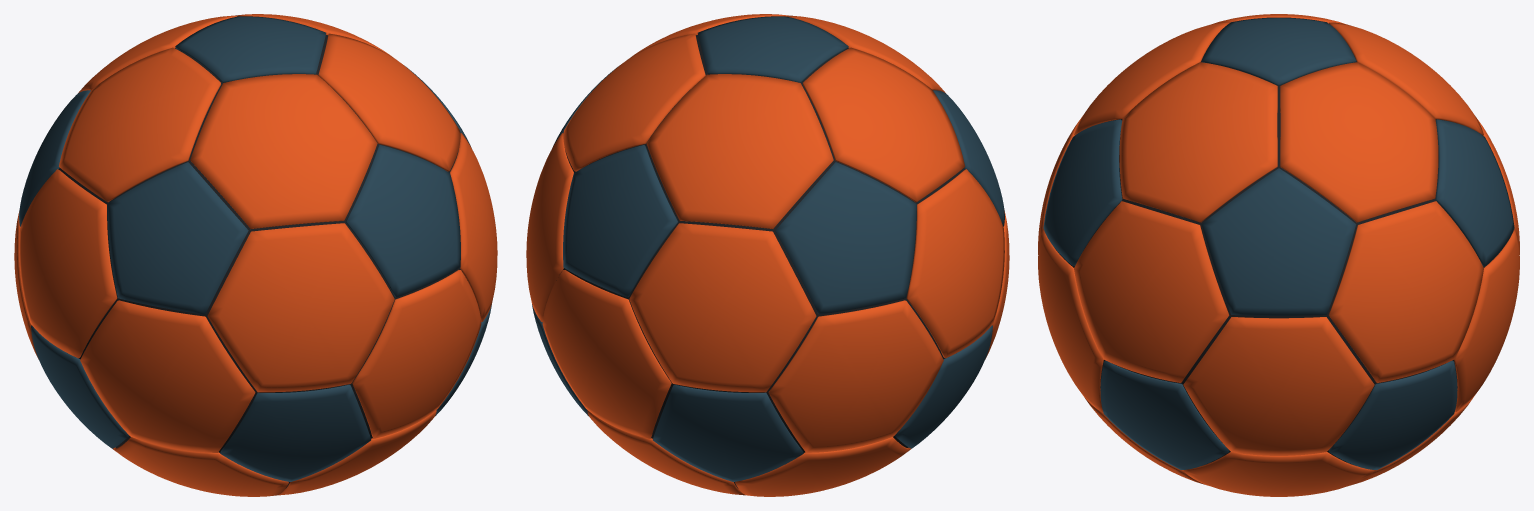
The picture shows the model from 3 angles, left to right: view 1: azimuth 30°, elevation 25°; view 2: azimuth 150°, elevation 25°; view 3: azimuth 270°, elevation 25°; orthographic projection.
Visible parts, largest first — view 1: MESH_Handball; view 2: MESH_Handball; view 3: MESH_Handball.
Part boxes in pixels (<box>): MESH_Handball: <box>14,14,497,496</box>; MESH_Handball: <box>526,14,1009,496</box>; MESH_Handball: <box>1038,14,1519,496</box>.
Size of the model in its own units: 0.1878 by 0.1878 by 0.1874.
